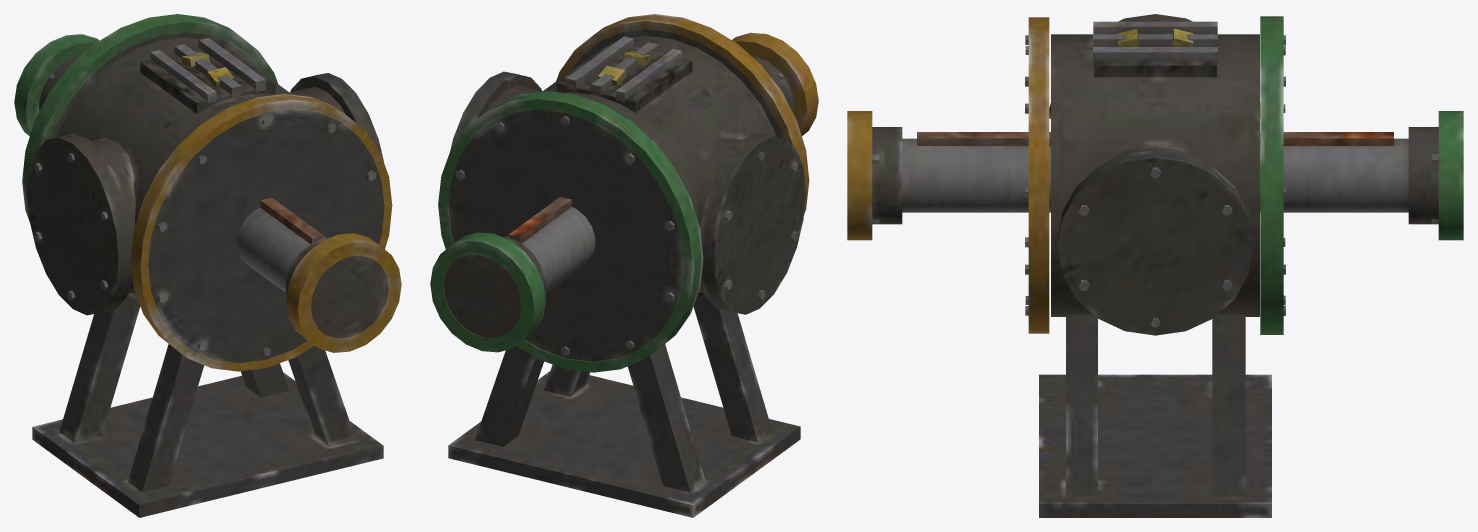
Rendered from feSpinInverter.glb.
The picture shows the model from 3 angles, left to right: view 1: azimuth 30°, elevation 25°; view 2: azimuth 150°, elevation 25°; view 3: azimuth 270°, elevation 25°; orthographic projection. The views are drawn at different scales.
Parts seen in each view (by area): view 1: feSpinInverter_Base, FeSpinOut_Inverter, FeSpinIn_Inverter; view 2: feSpinInverter_Base, FeSpinIn_Inverter, FeSpinOut_Inverter; view 3: feSpinInverter_Base, FeSpinOut_Inverter, FeSpinIn_Inverter.
Part boxes in pixels (bbox=[...]): feSpinInverter_Base: bbox=[22, 14, 392, 517]; FeSpinOut_Inverter: bbox=[237, 197, 401, 352]; FeSpinIn_Inverter: bbox=[14, 34, 99, 136]; feSpinInverter_Base: bbox=[438, 14, 809, 517]; FeSpinIn_Inverter: bbox=[430, 196, 595, 352]; FeSpinOut_Inverter: bbox=[732, 32, 818, 135]; feSpinInverter_Base: bbox=[1025, 14, 1285, 517]; FeSpinOut_Inverter: bbox=[847, 111, 1050, 240]; FeSpinIn_Inverter: bbox=[1260, 111, 1463, 240].
Bounding box in the file's own units: 0.566 × 0.7709 × 1.01.
1 material, 1 textured.
